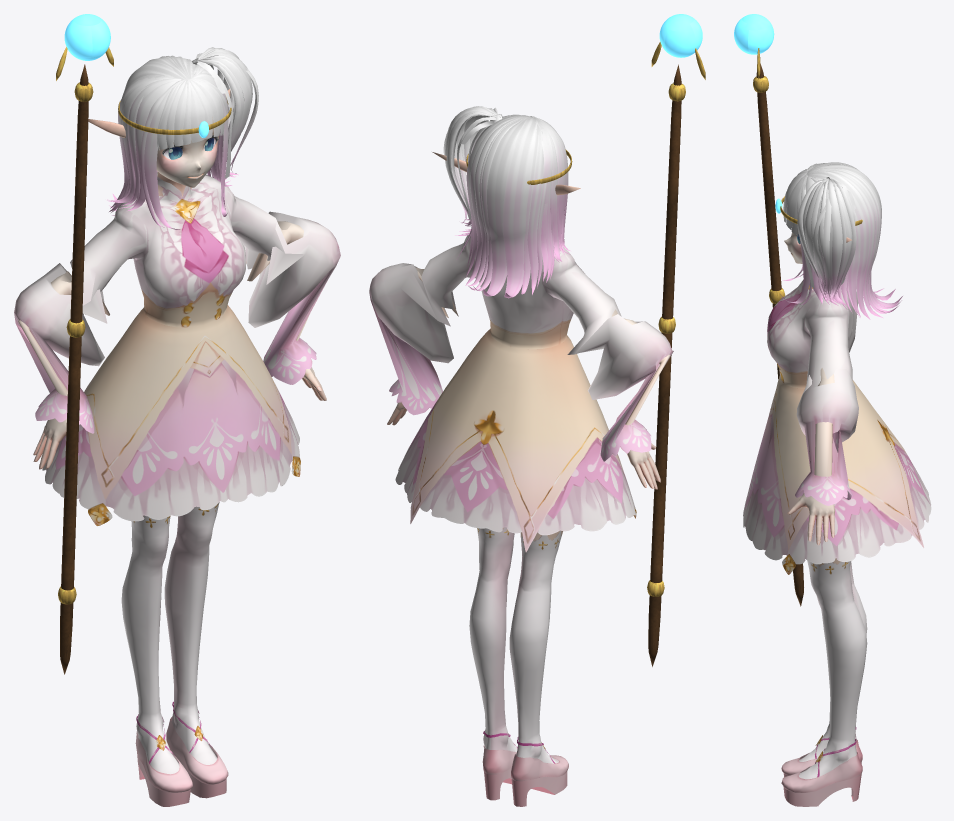
The model's file is chr_ally_sylphie_elf_mage.glb.
3 views of the same model, side by side, from view 1: azimuth 30°, elevation 25°; view 2: azimuth 150°, elevation 25°; view 3: azimuth 270°, elevation 25° (orthographic). The views are drawn at different scales.
Parts seen in each view (by area): view 1: torso_Tops01CLOTH, cloak_Tops01CLOTH, forearm_l_Tops01CLOTH, weapon_r_staff, shin_l_Body00SKIN, shin_r_Body00SKIN, forearm_r_Tops01CLOTH, cloak_00HAIR01, head_00HAIR01, arm_r_Tops01CLOTH, arm_l_Tops01CLOTH, shin_r_Shoes01CLOTH (+10 smaller); view 2: cloak_Tops01CLOTH, torso_Tops01CLOTH, cloak_00HAIR01, head_00HAIR01, forearm_l_Tops01CLOTH, forearm_r_Tops01CLOTH, weapon_r_staff, shin_r_Body00SKIN, shin_l_Body00SKIN, arm_r_Tops01CLOTH, shin_r_Shoes01CLOTH, arm_l_Tops01CLOTH (+5 smaller); view 3: cloak_Tops01CLOTH, torso_Tops01CLOTH, cloak_00HAIR01, shin_l_Body00SKIN, forearm_l_Tops01CLOTH, head_00HAIR01, weapon_r_staff, shin_l_Shoes01CLOTH, arm_l_Tops01CLOTH, forearm_l_Body00SKIN, weapon_r_staff_orb, leg_l_Body00SKIN (+3 smaller).
Boxes of the visible parts, x1,y1,x2,y2 form: torso_Tops01CLOTH: (88, 175, 269, 434); cloak_Tops01CLOTH: (42, 361, 300, 525); forearm_l_Tops01CLOTH: (242, 211, 340, 384); weapon_r_staff: (60, 64, 88, 674); shin_l_Body00SKIN: (164, 534, 217, 764); shin_r_Body00SKIN: (121, 539, 179, 774); forearm_r_Tops01CLOTH: (14, 263, 106, 433); cloak_00HAIR01: (107, 47, 258, 229); head_00HAIR01: (118, 47, 228, 151); arm_r_Tops01CLOTH: (70, 217, 148, 322); arm_l_Tops01CLOTH: (230, 196, 287, 284); shin_r_Shoes01CLOTH: (135, 714, 192, 806); cloak_Tops01CLOTH: (395, 395, 636, 552); torso_Tops01CLOTH: (436, 235, 606, 448); cloak_00HAIR01: (443, 107, 570, 298); head_00HAIR01: (464, 106, 568, 217); forearm_l_Tops01CLOTH: (369, 263, 453, 415); forearm_r_Tops01CLOTH: (567, 305, 673, 461); weapon_r_staff: (648, 64, 681, 666); shin_r_Body00SKIN: (509, 561, 558, 763); shin_l_Body00SKIN: (469, 550, 517, 751); arm_r_Tops01CLOTH: (542, 262, 621, 336); shin_r_Shoes01CLOTH: (511, 737, 568, 806); arm_l_Tops01CLOTH: (421, 243, 474, 308); cloak_Tops01CLOTH: (743, 422, 931, 574); torso_Tops01CLOTH: (758, 279, 894, 480); cloak_00HAIR01: (780, 183, 902, 319); shin_l_Body00SKIN: (798, 580, 867, 779); forearm_l_Tops01CLOTH: (795, 362, 858, 505); head_00HAIR01: (797, 162, 881, 252); weapon_r_staff: (756, 63, 803, 606); shin_l_Shoes01CLOTH: (781, 739, 862, 806); arm_l_Tops01CLOTH: (804, 310, 852, 386); forearm_l_Body00SKIN: (787, 374, 834, 545); weapon_r_staff_orb: (734, 14, 774, 54); leg_l_Body00SKIN: (807, 558, 851, 594).
Size of the model in its own units: 0.8251 by 2.06 by 0.5333.
Materials: 20 (20 with a texture image).
